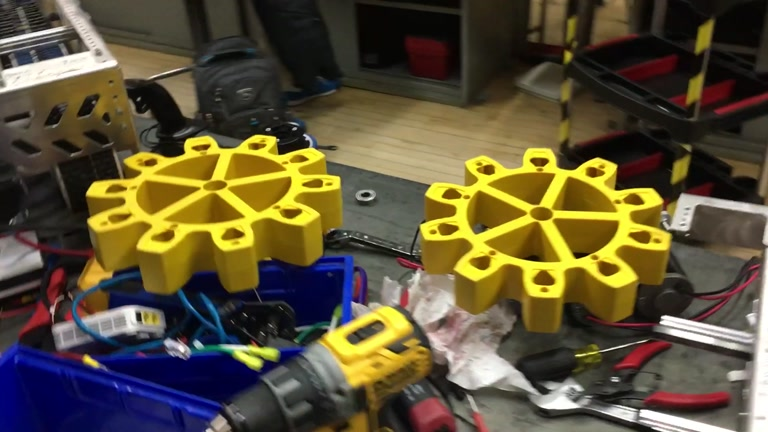gear: (419, 147, 674, 332), (84, 134, 344, 295)
